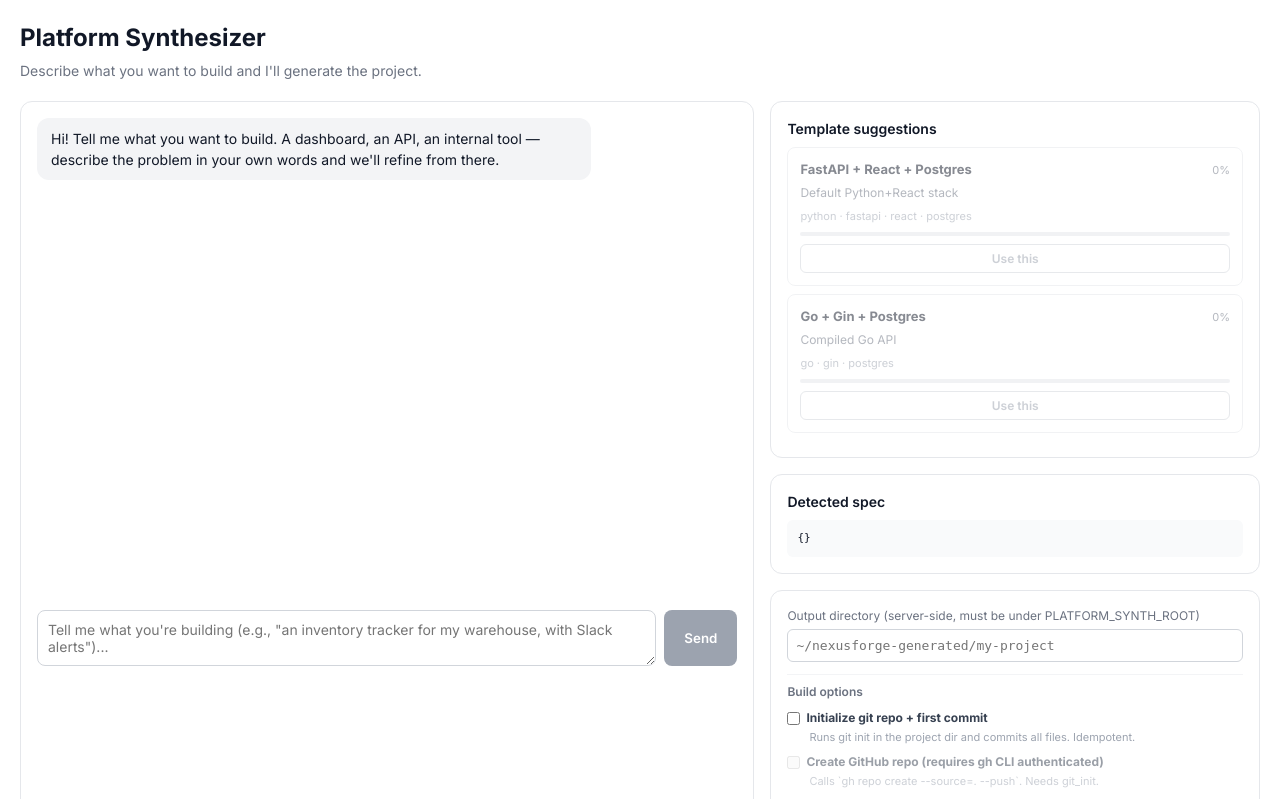
Test: PlatformSynthPage — chat round-trip › surfaces backend errors without crashing
The width and height of the screenshot is (1280, 799).
Expected: the text "FastAPI + React + Postgres" is shown, [800, 160, 972, 180]
Replace the text in the text box with placeholder "Tell me what you're building" with "hi" at coordinates (347, 638), box [37, 610, 656, 666]
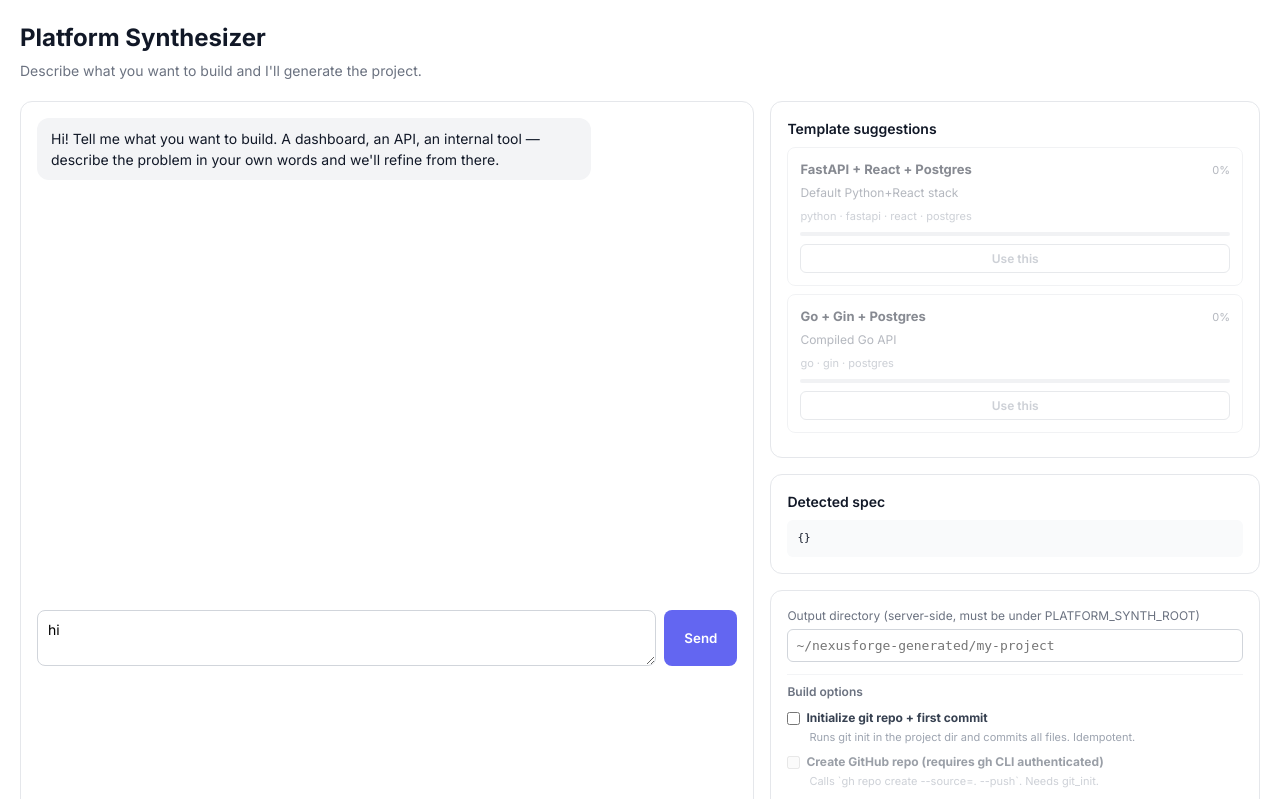
Click the button "Send" at coordinates (701, 638), box [664, 610, 737, 666]
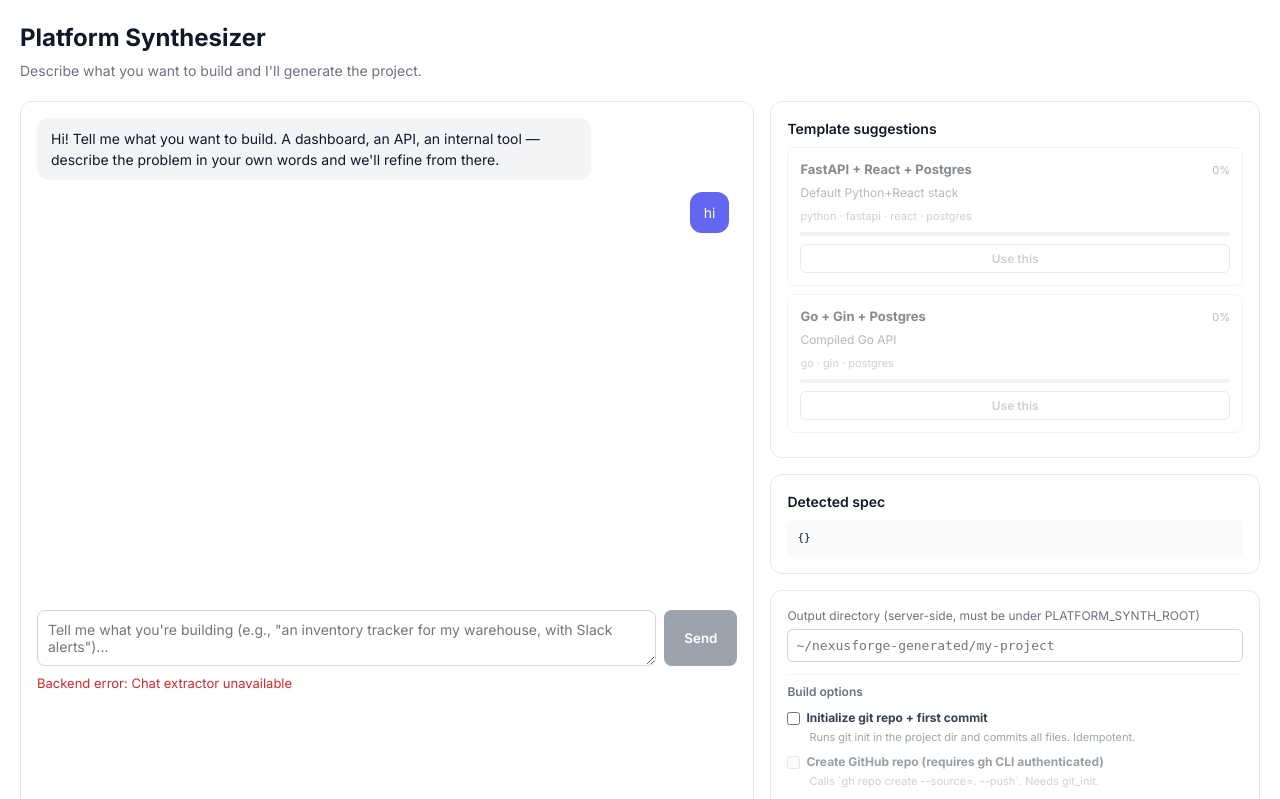
Expected: the heading "Platform Synthesizer" is shown, [20, 23, 266, 52]
Expected: the text "Backend error: Chat extractor unavailable" is shown, [37, 675, 292, 691]
